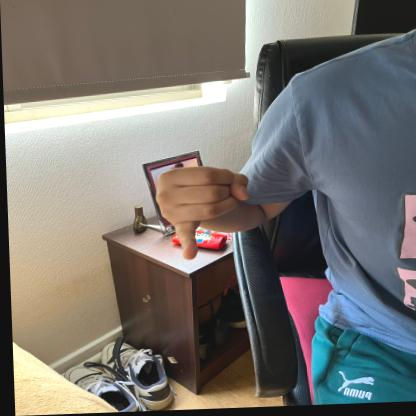Z: (150, 159, 251, 262)
